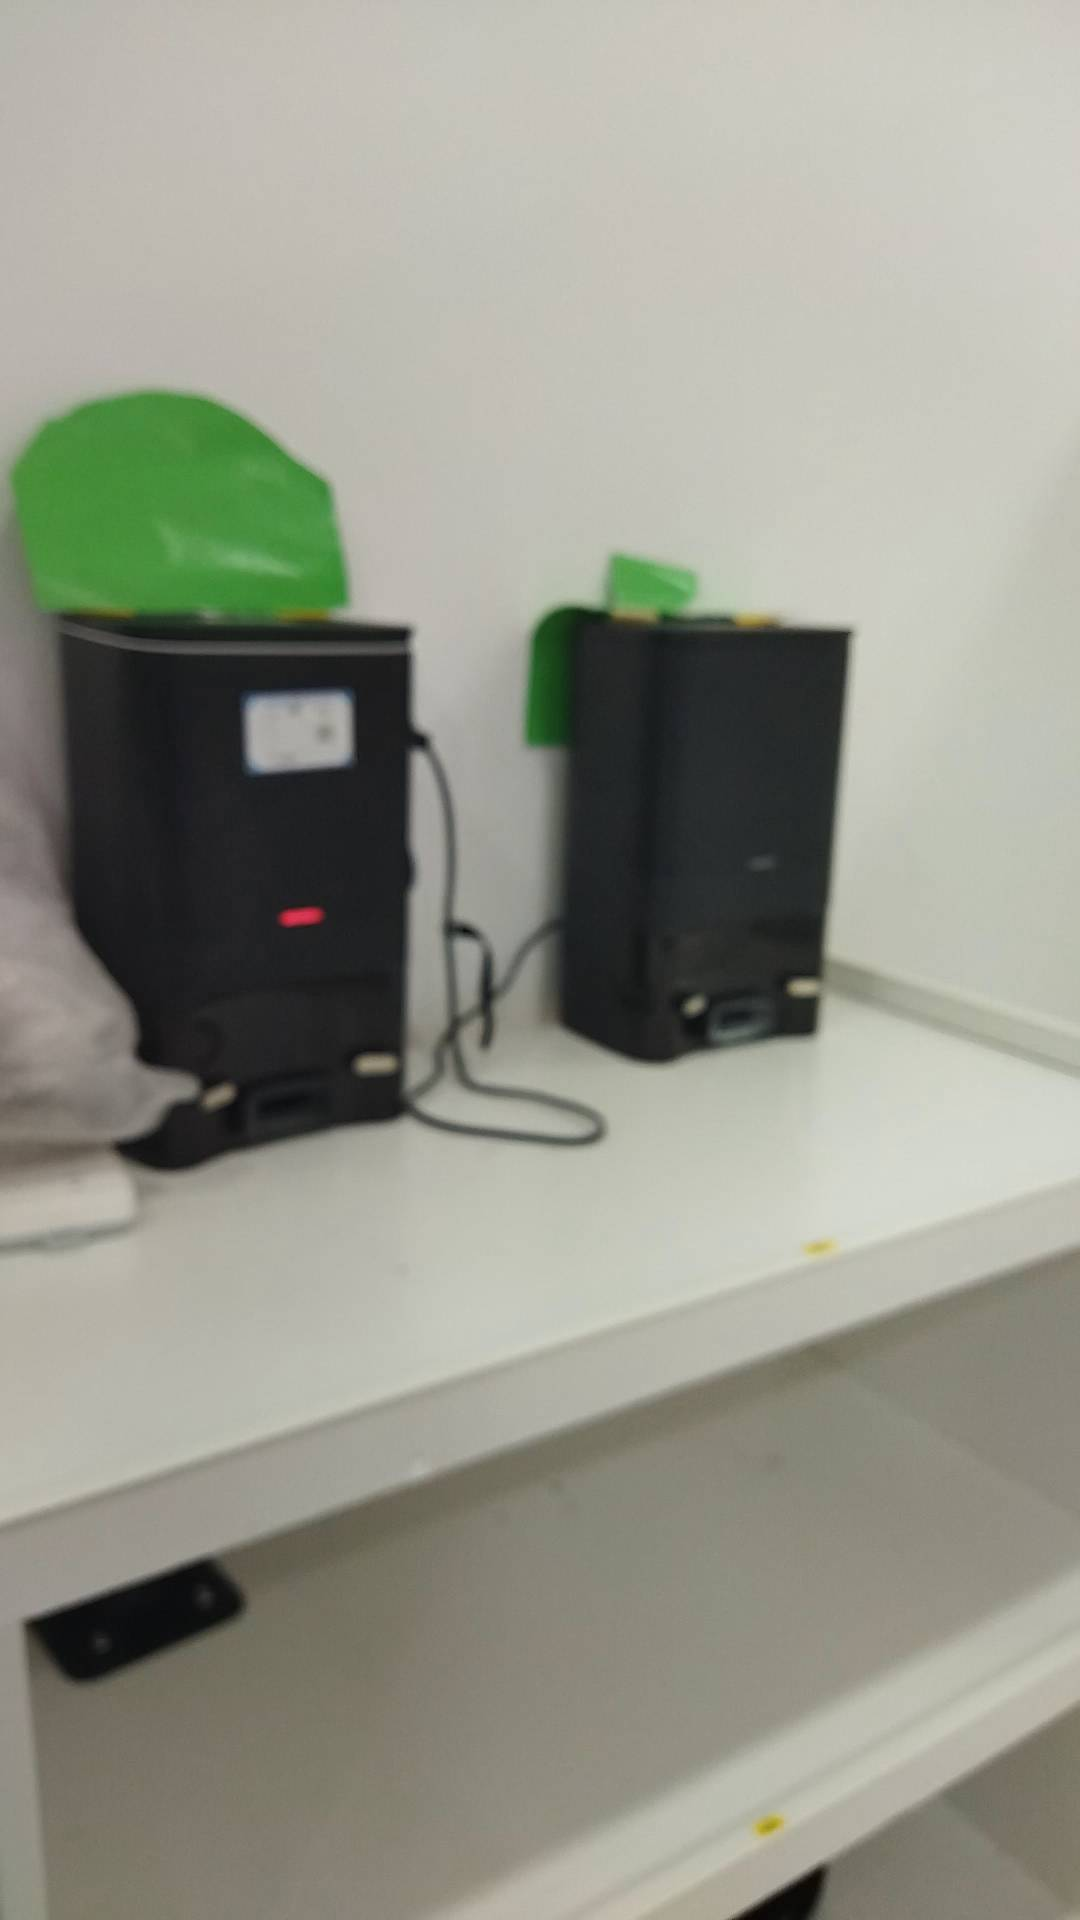dust collecting barrel: (61, 608, 413, 1168), (556, 607, 852, 1065)
